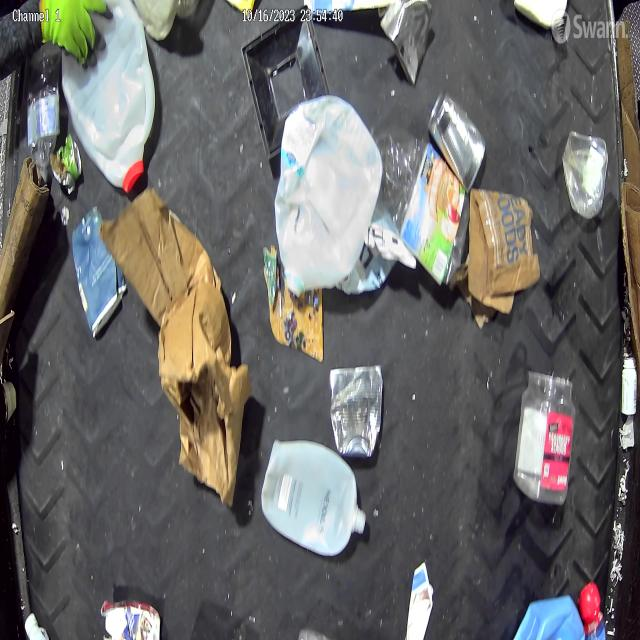can: (427, 90, 488, 196), (328, 364, 383, 458), (382, 0, 438, 88), (51, 133, 82, 191)
milk_jug: (277, 95, 381, 291), (64, 0, 155, 190)
non_white_jug: (504, 594, 590, 640)
plastic_bottle: (375, 130, 472, 290), (30, 41, 61, 179)
